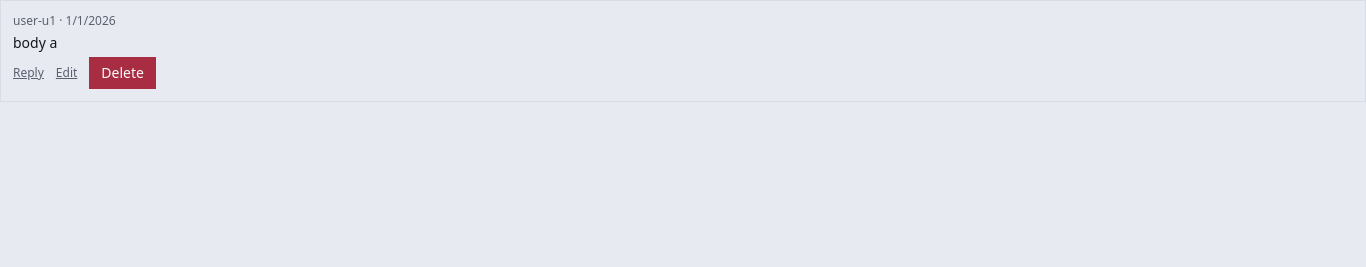
Test case: CommentThread › swaps the body for an editor seeded with the current text
What coordinates should you click on to do the following:
click the button "Edit"
I would click on:
 (67, 73)
Its box is [56,65,77,81].
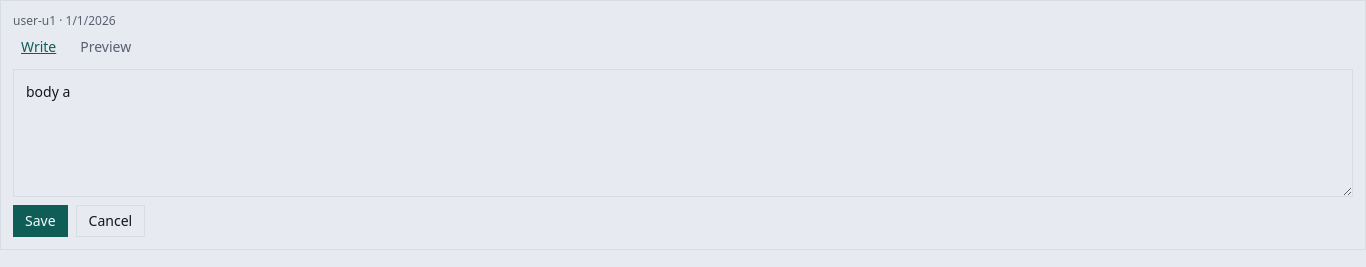
Expected: the text box named "comment" holds "body a", [13,69,1353,197]
Expected: the button "Delete" is gone
